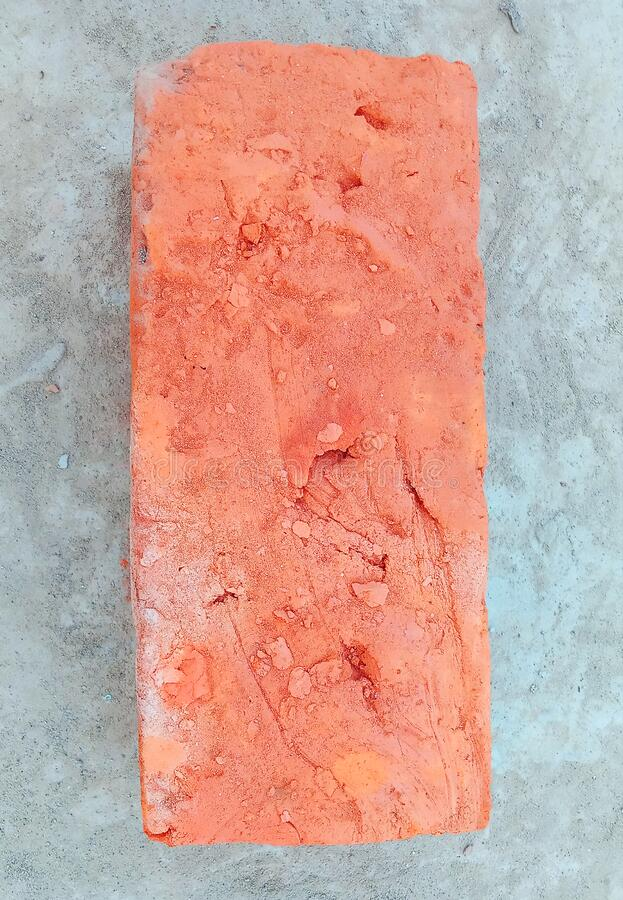brick: (144, 50, 488, 838)
